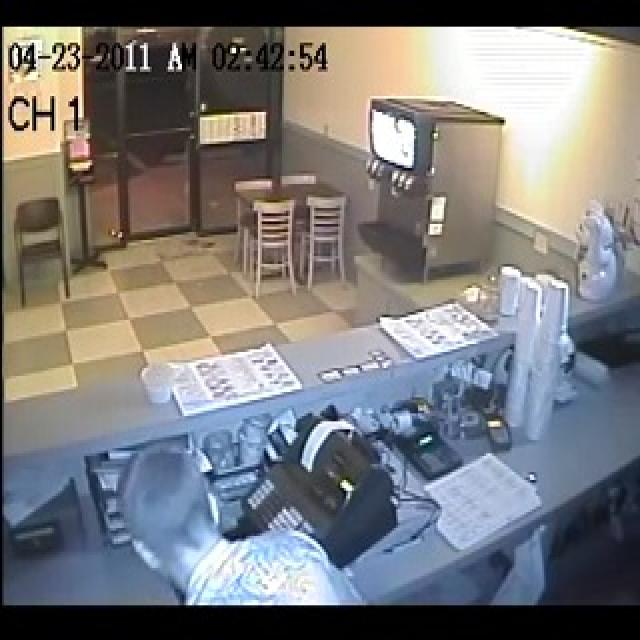thief: (109, 433, 371, 608)
